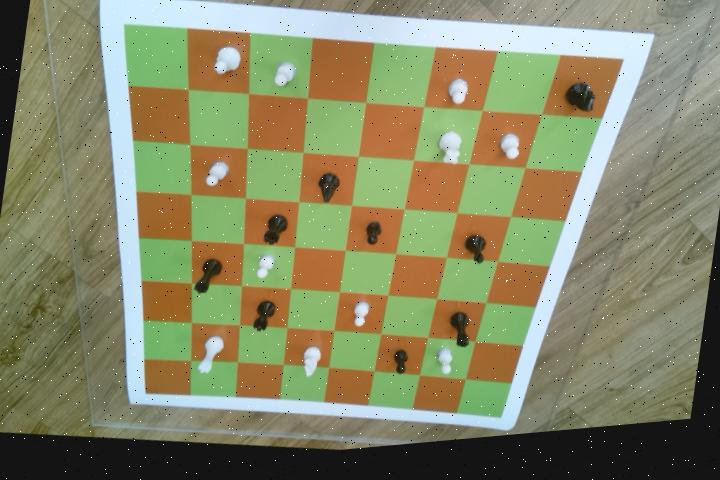chessboard-detect: (123, 27, 624, 427)
